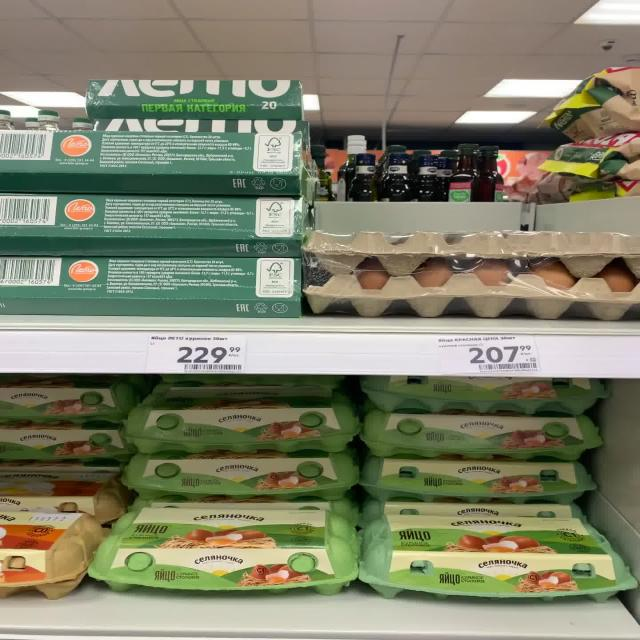egg box: (94, 497, 356, 601), (358, 508, 632, 604), (362, 402, 598, 463), (126, 396, 353, 453), (117, 452, 360, 503), (361, 455, 599, 502)
